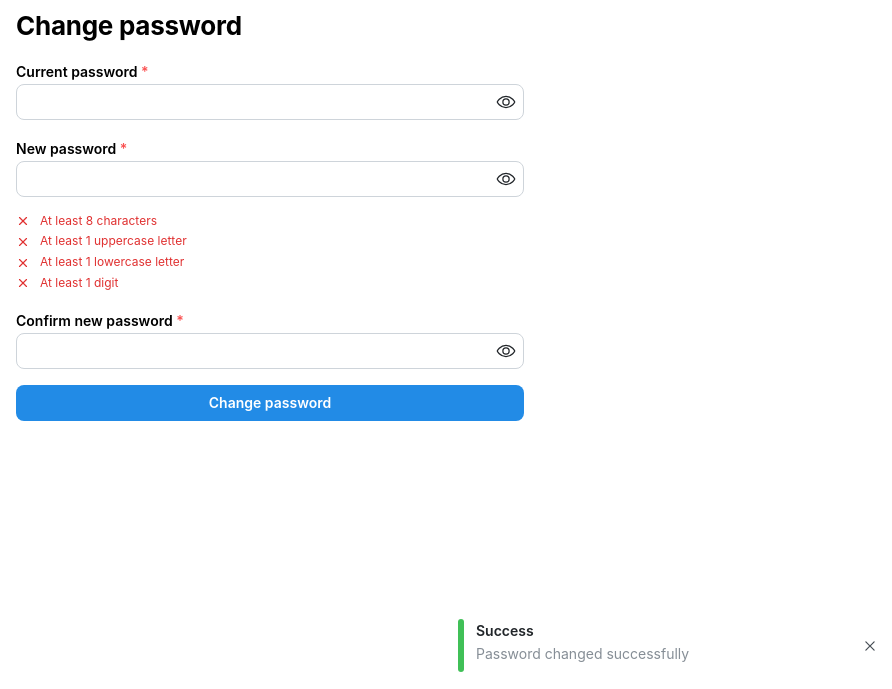
Test: ChangePasswordPage › blocks submit when new password fails policy (missing uppercase)
Expected: the button "Change password" is enabled, [16, 385, 524, 421]
In the password field labelled "Current password *": (270, 102) [17, 85, 523, 119], type "OldPass1"
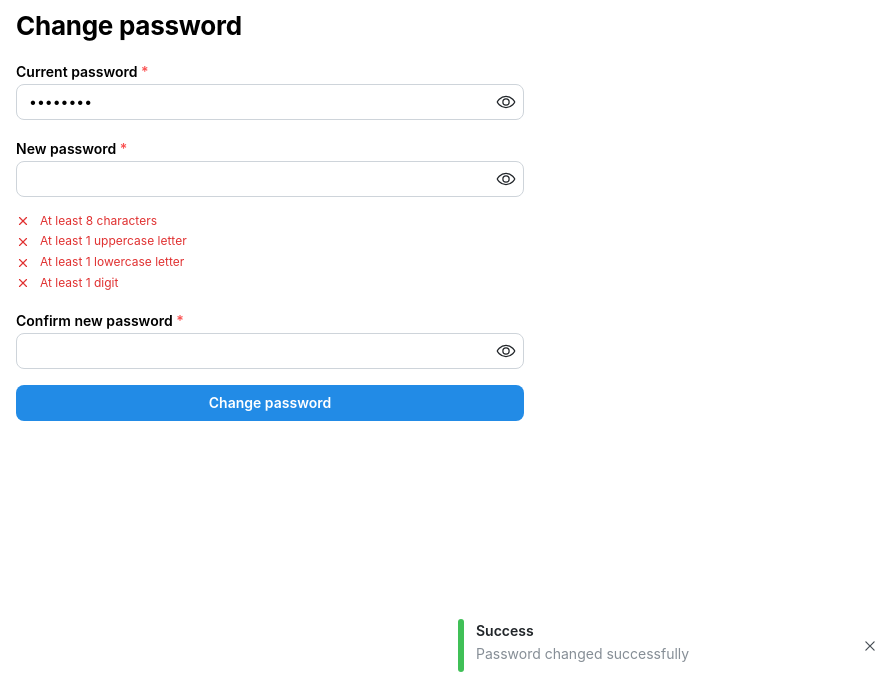
In the password field labelled "New password *": (270, 179) [17, 162, 523, 196], type "weakpass1"
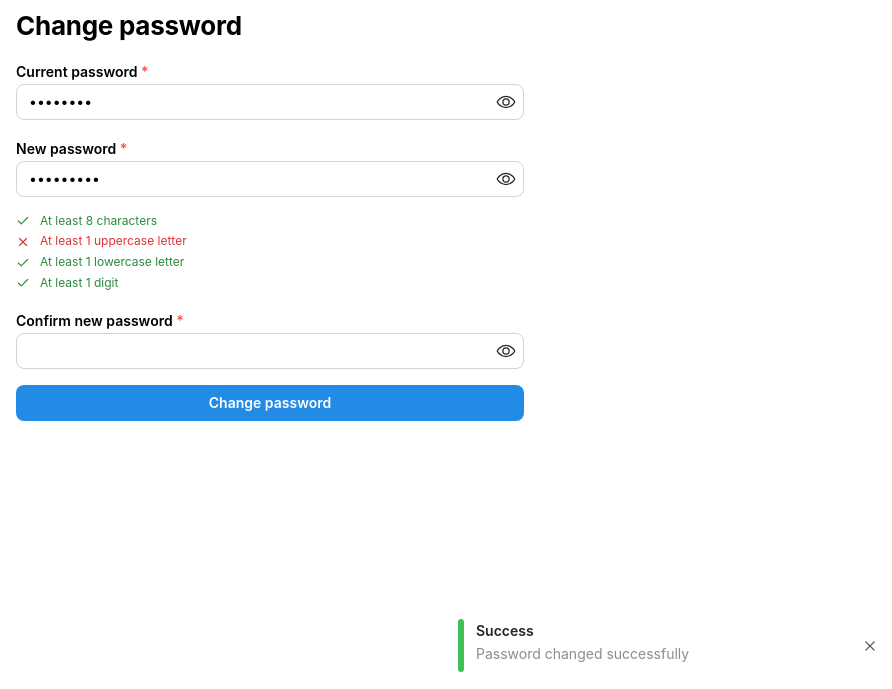
In the password field labelled "Confirm new password *": (270, 351) [17, 334, 523, 368], type "weakpass1"
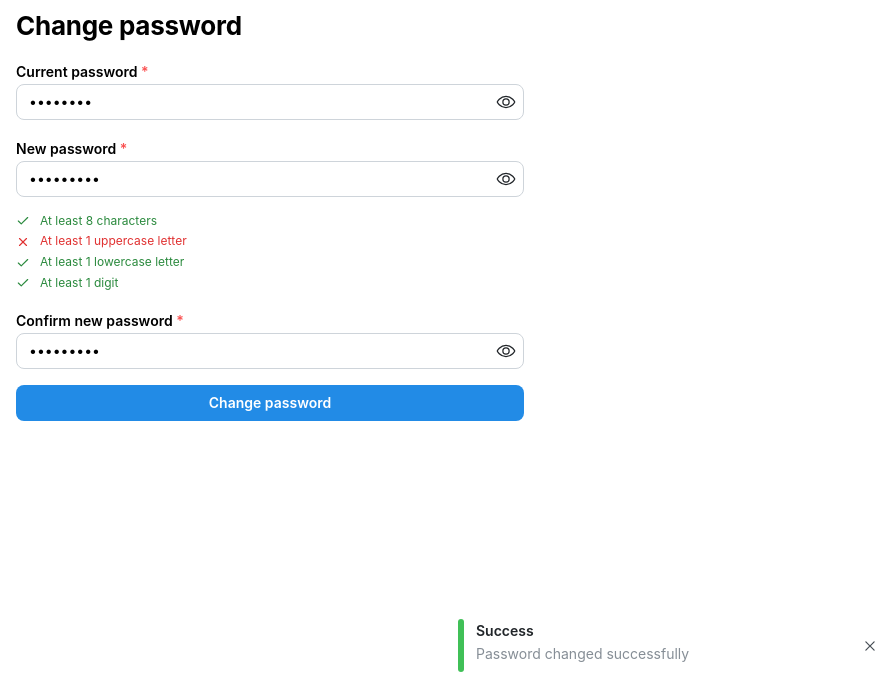
Click the button "Change password": (270, 403) [16, 385, 524, 421]
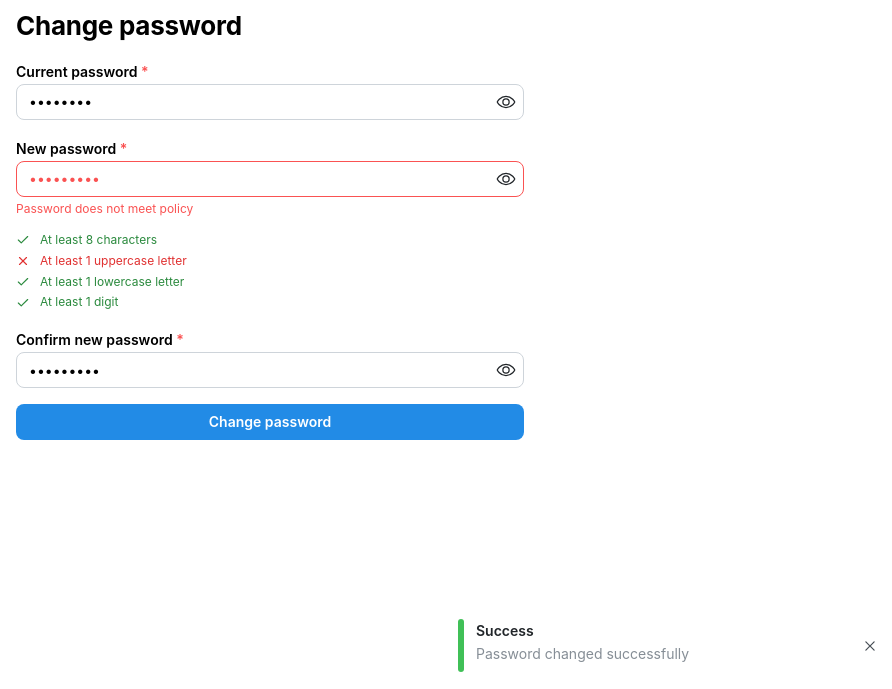
Now the text "Password does not meet policy" is shown, box [16, 201, 193, 216]
